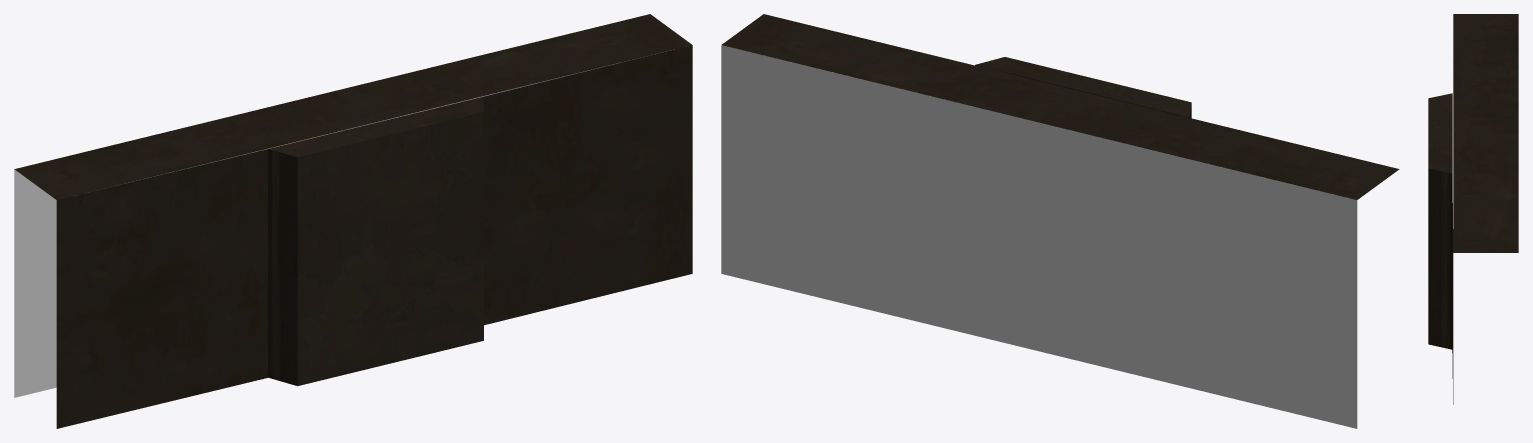
Rendered from fortress_quarter_straight_02.fbx.
3 renders of one model, left to right at view 1: azimuth 30°, elevation 25°; view 2: azimuth 150°, elevation 25°; view 3: azimuth 270°, elevation 25°, orthographic. The views are drawn at different scales.
Visible parts, largest first — view 1: fortress_quarter_straight_02-0; view 2: fortress_quarter_straight_02-0; view 3: fortress_quarter_straight_02-0.
Part boxes in pixels (bbox=[...]): fortress_quarter_straight_02-0: bbox=[14, 14, 692, 428]; fortress_quarter_straight_02-0: bbox=[721, 14, 1399, 428]; fortress_quarter_straight_02-0: bbox=[1428, 14, 1518, 404].
Size of the model in its own units: 4 by 1.38 by 0.6406.
